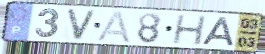3: (34, 7, 61, 40)
8: (136, 12, 163, 45)
A: (95, 10, 132, 44), (201, 16, 237, 48)
H: (170, 14, 208, 47)
V: (65, 7, 99, 42)
